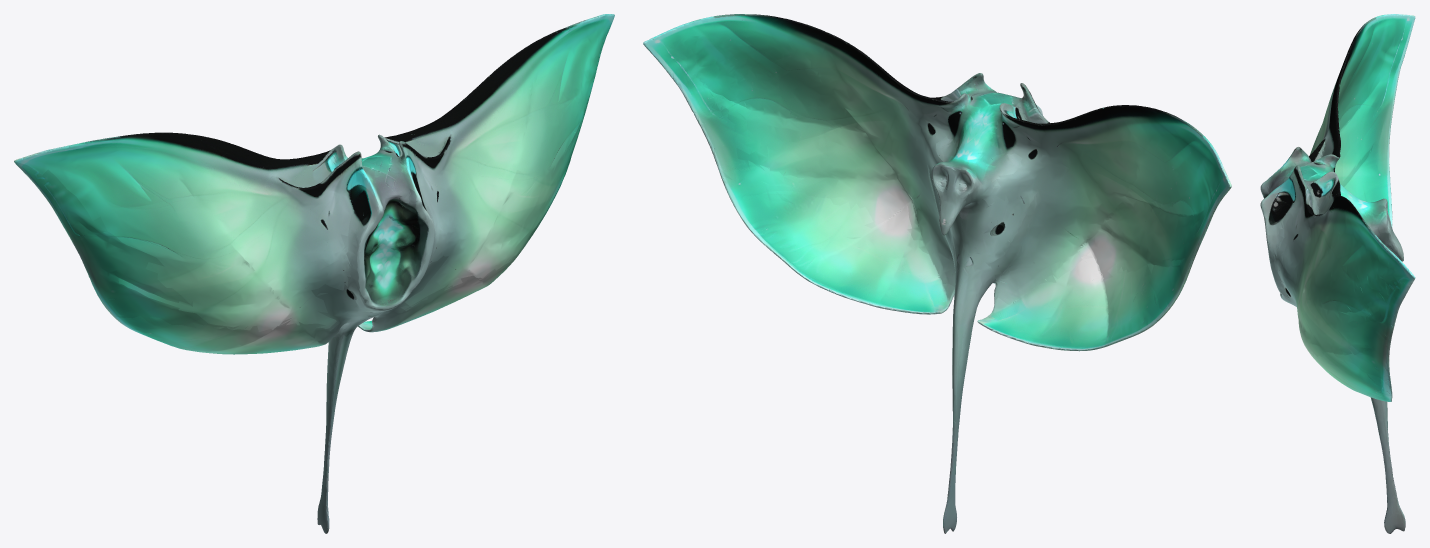
The model's file is mantle_ray.glb.
3 renders of one model, left to right at view 1: azimuth 30°, elevation 25°; view 2: azimuth 150°, elevation 25°; view 3: azimuth 270°, elevation 25°, orthographic. The views are drawn at different scales.
Bounding box in the file's own units: 1.9 × 1.4 × 0.4758.
1 material, 1 textured.
